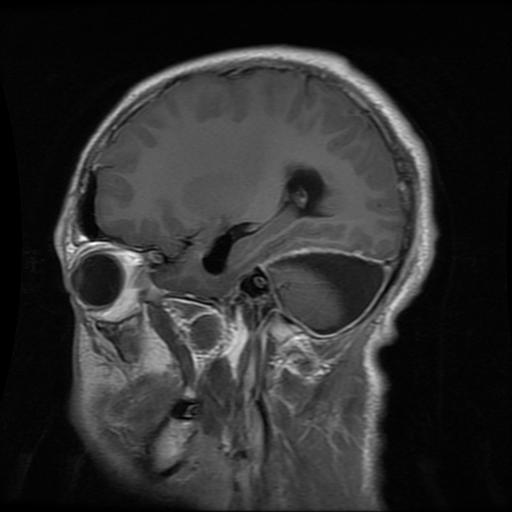Gliomia_tumour: (272, 250, 384, 335)
